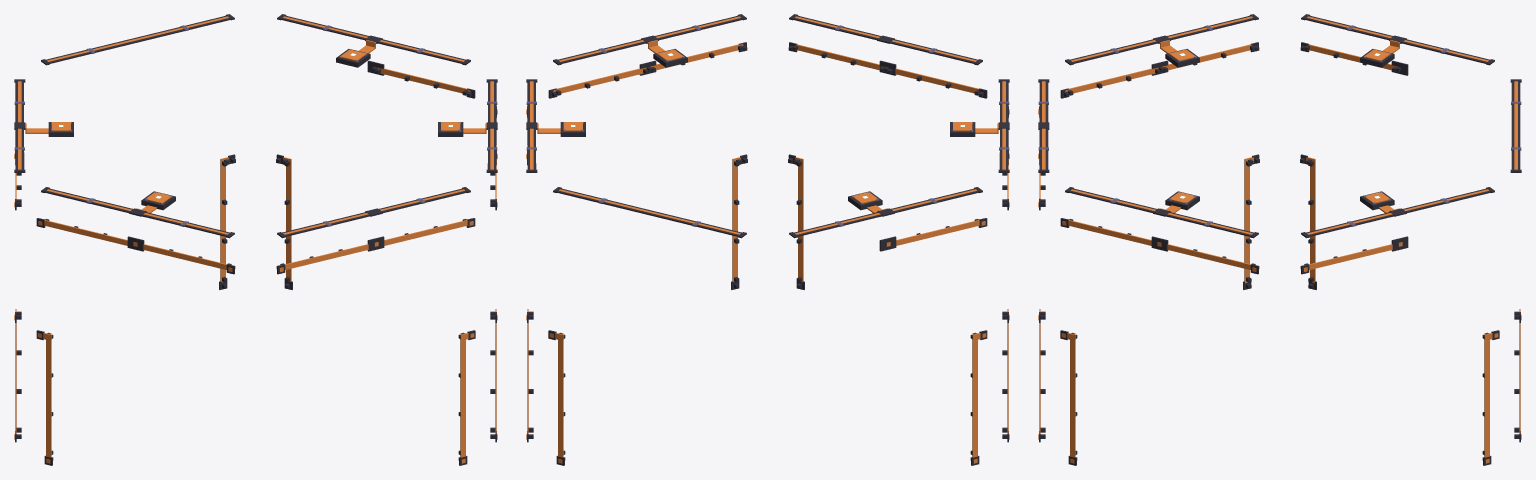
The model's file is power_bus__asteroid.glb.
3 views of the same model, side by side, from view 1: azimuth 30°, elevation 25°; view 2: azimuth 150°, elevation 25°; view 3: azimuth 270°, elevation 25° (orthographic).
Parts seen in each view (by area): view 1: rail_harness; view 2: rail_harness; view 3: rail_harness.
Boxes of the visible parts, bbox=[...] form: rail_harness: bbox=[14, 14, 497, 465]; rail_harness: bbox=[526, 14, 1009, 465]; rail_harness: bbox=[1038, 14, 1521, 465].
Size of the model in its own units: 1.47 by 0.8345 by 1.34.
